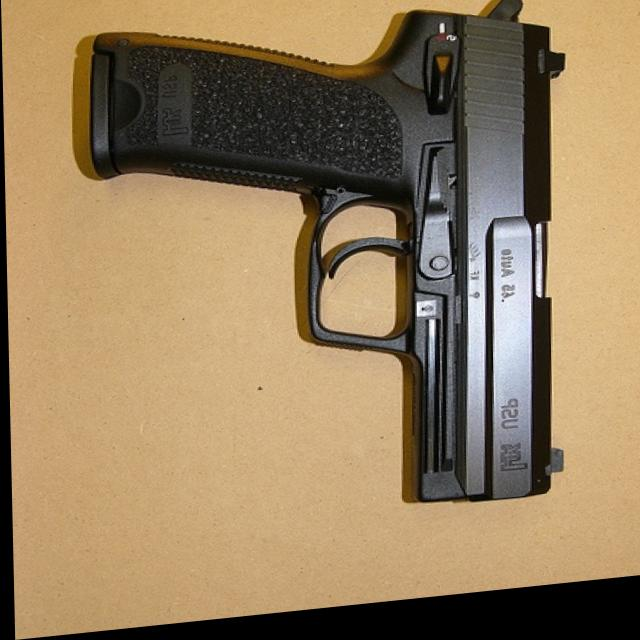handgun: (88, 0, 573, 544)
